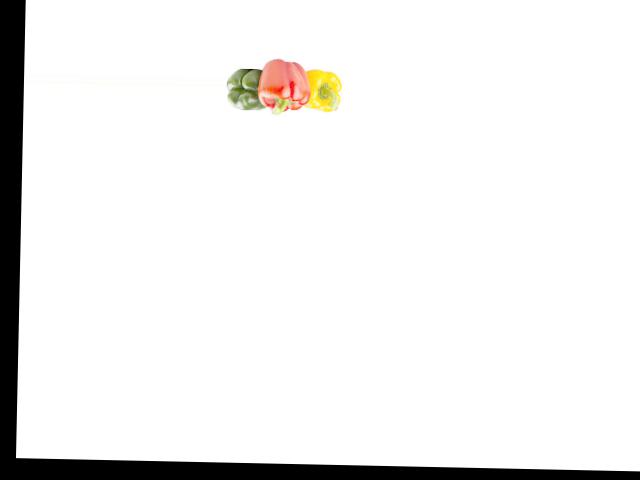bell_pepper: (300, 60, 345, 116)
